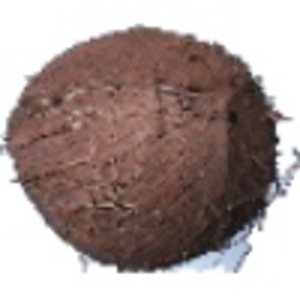coco: (1, 28, 300, 274)
